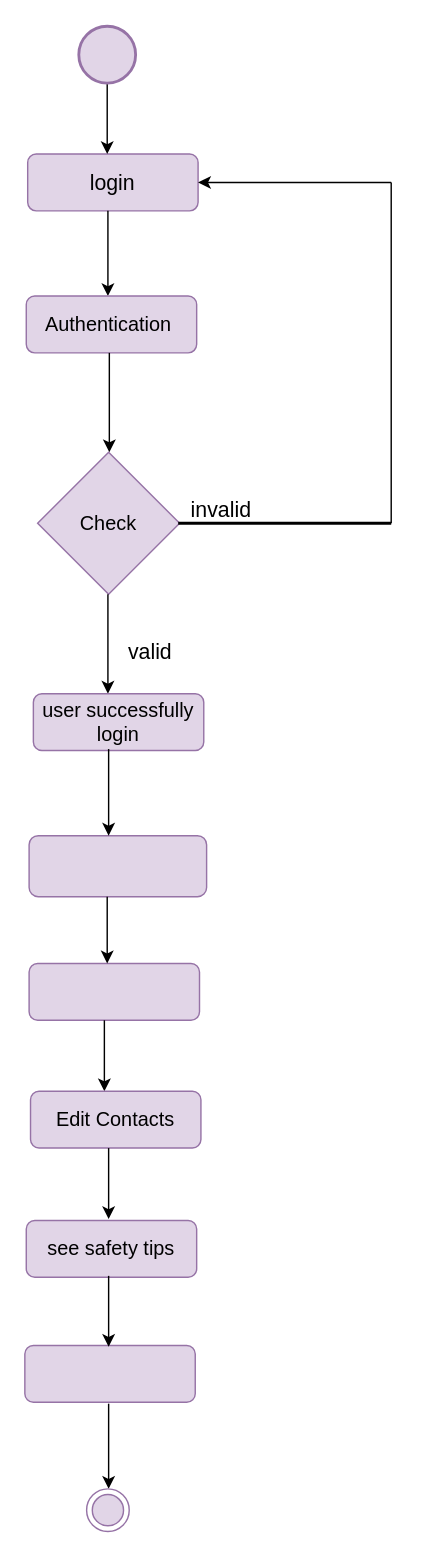
Image size: 427x1556. Some labels were removed from this diagram. The shapes that lost their labels are listed below. From the top down, each one's centre as x and y in pixels, then its label:
pixel 117 865: Register contacts
pixel 114 991: View Contacts
pixel 109 1373: Register a complaint
